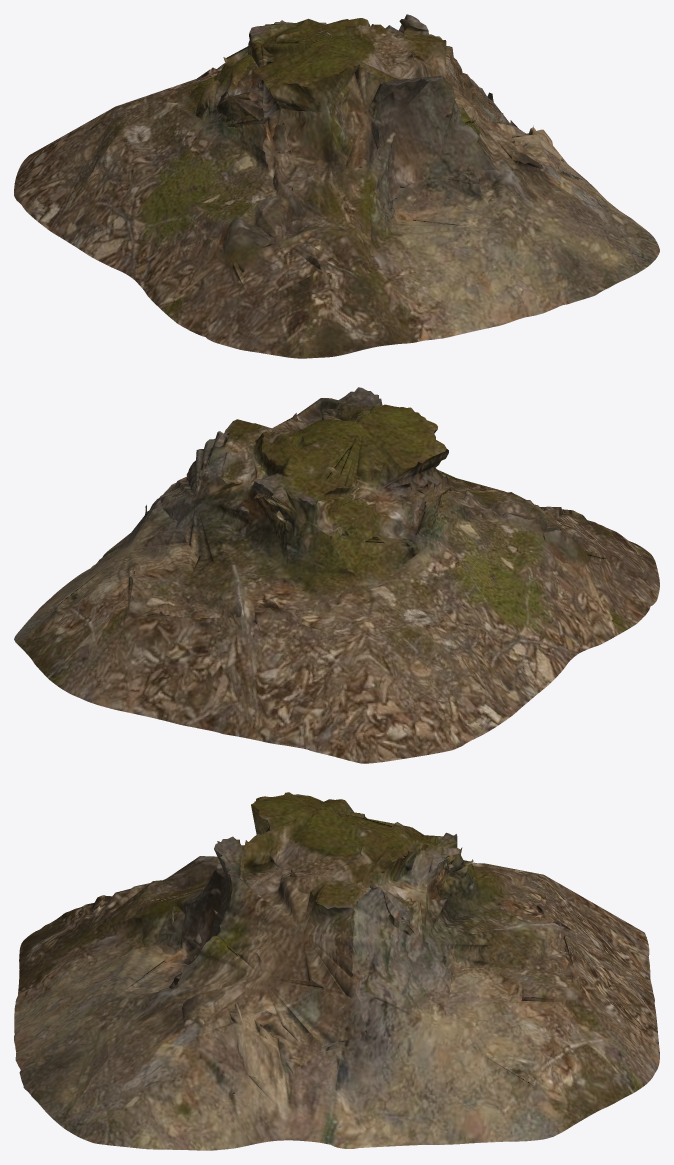
File: ph_stump.glb
The picture shows the model from 3 angles, top to bottom: view 1: azimuth 30°, elevation 25°; view 2: azimuth 150°, elevation 25°; view 3: azimuth 270°, elevation 25°; orthographic projection. The views are drawn at different scales.
Bounding box in the file's own units: 1.43 × 0.5683 × 1.59.
Materials: 1 (1 with a texture image).
